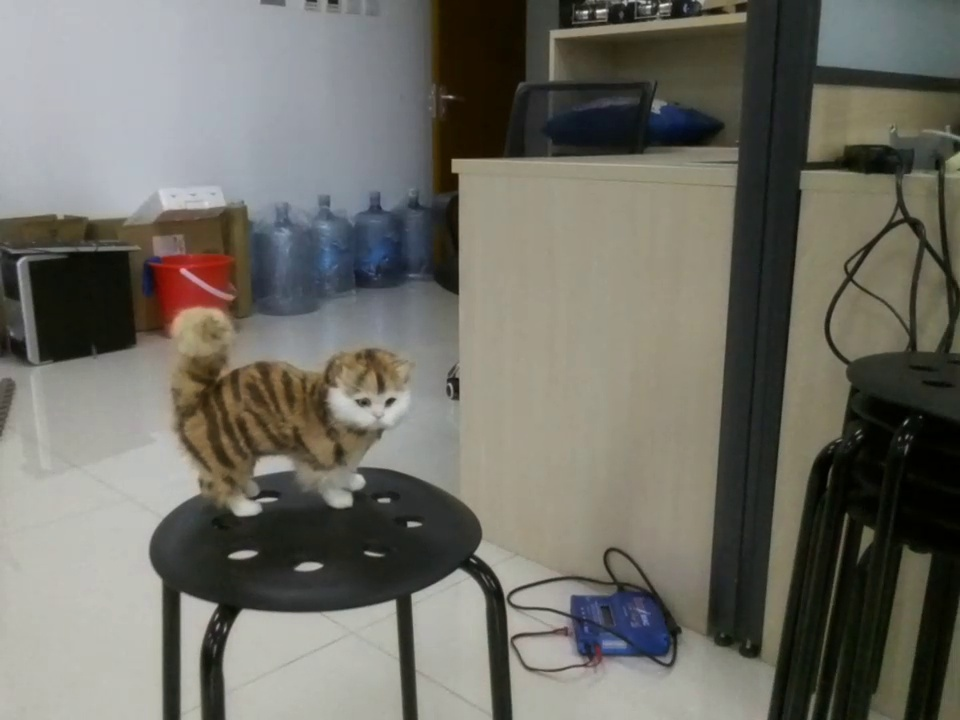cat: (164, 307, 415, 522)
